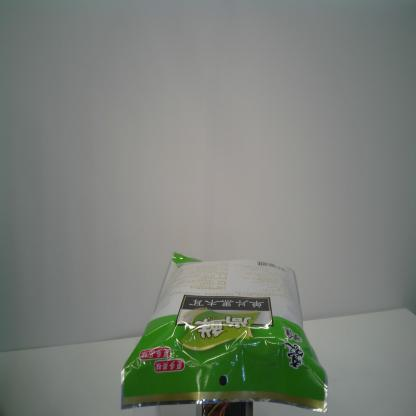Dried Food: (121, 250, 330, 414)
